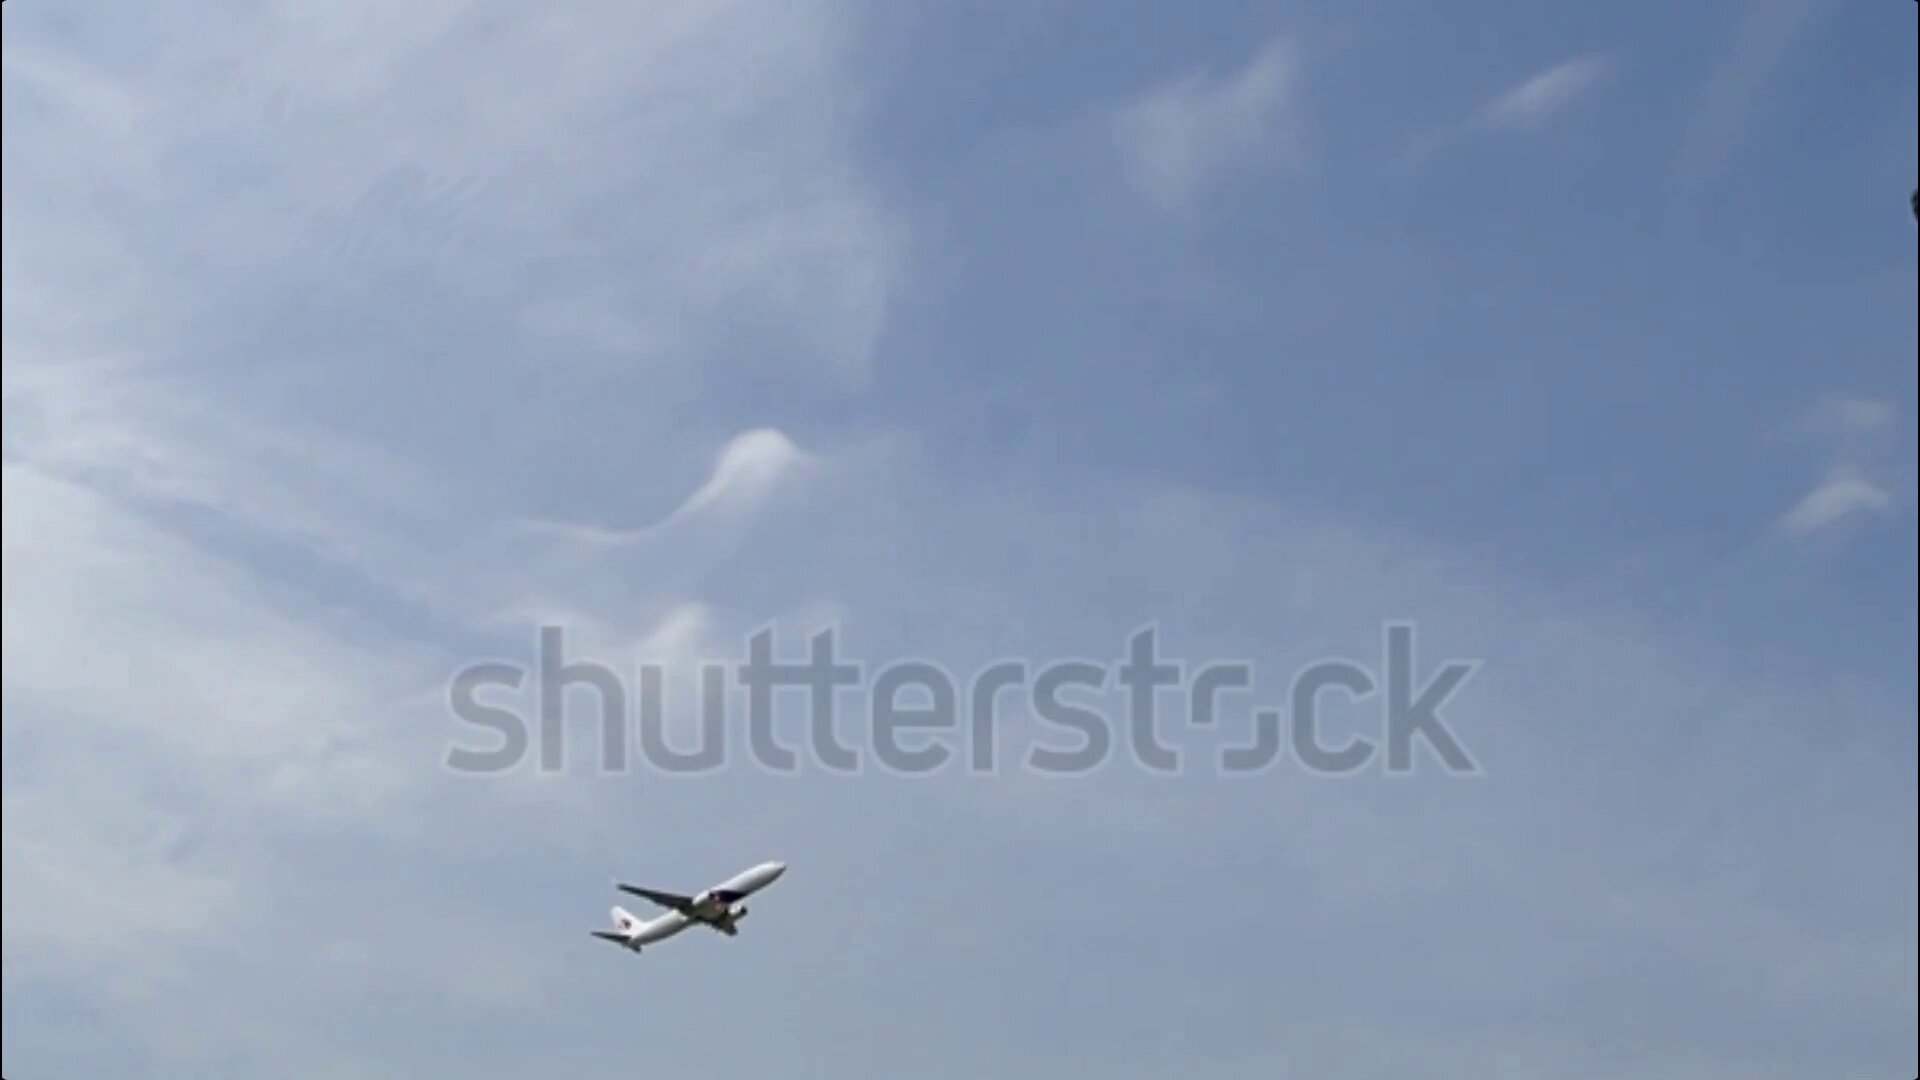airplane: (589, 855, 785, 957)
